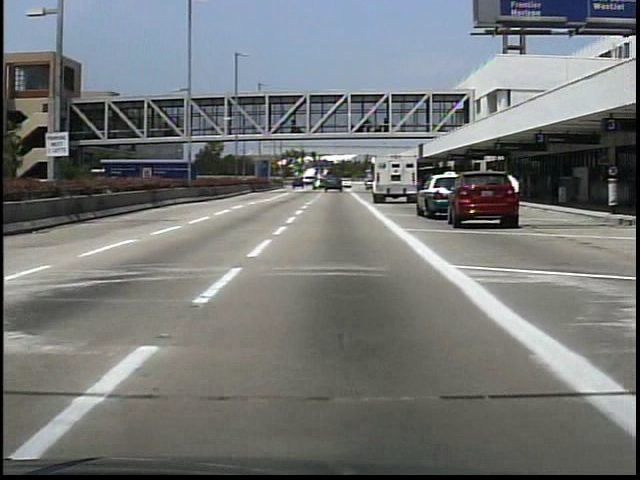person: (503, 173, 523, 228)
